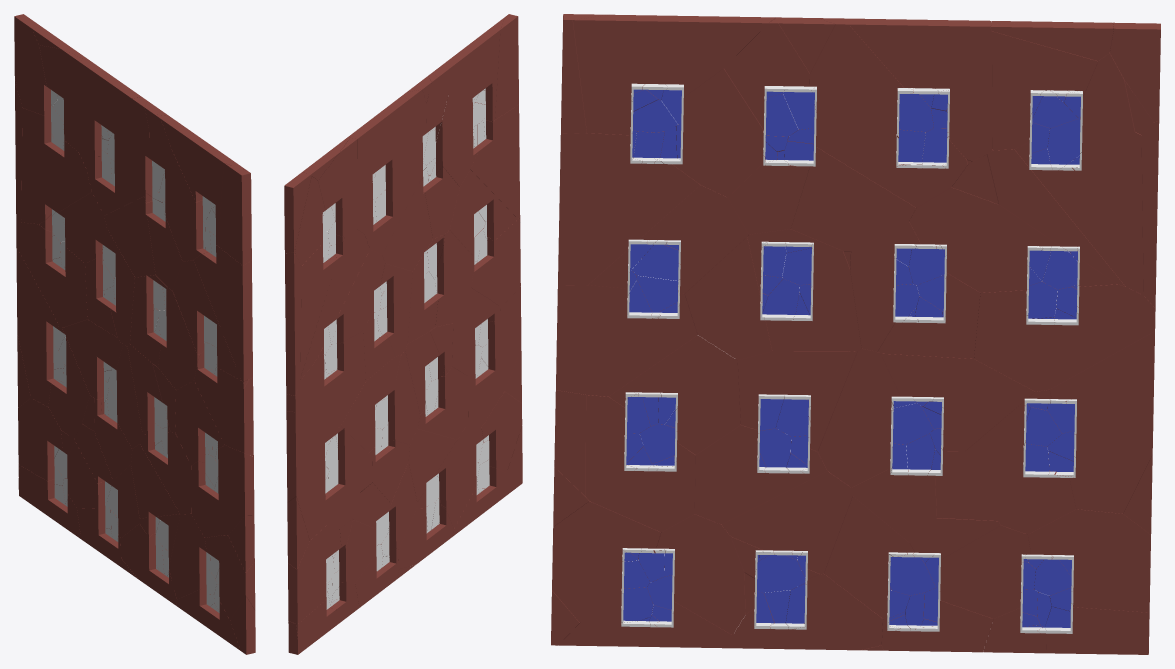
Rendered from wall05,07_A.fbx.
3 renders of one model, left to right at view 1: azimuth 30°, elevation 25°; view 2: azimuth 150°, elevation 25°; view 3: azimuth 270°, elevation 25°, orthographic. The views are drawn at different scales.
Visible parts, largest first — view 1: wall07_A.001_cell.004, wall07_A.001_cell.028, wall07_A.001_cell.020, wall07_A.001_cell.033, wall07_A.001_cell.046, wall07_A.001_cell.061, wall07_A.001_cell.009, wall07_A.001_cell.116, wall07_A.001_cell.128, wall07_A.001_cell.132, wall07_A.001_cell.147, wall07_A.001_cell.129 (+40 smaller); view 2: wall07_A.001_cell.028, wall07_A.001_cell.033, wall07_A.001_cell.020, wall07_A.001_cell.004, wall07_A.001_cell.009, wall07_A.001_cell.046, wall07_A.001_cell.129, wall07_A.001_cell.061, wall07_A.001_cell.128, wall07_A.001_cell.147, wall07_A.001_cell.132, wall07_A.001_cell.013 (+39 smaller); view 3: wall07_A.001_cell.009, wall07_A.001_cell.004, wall07_A.001_cell.028, wall07_A.001_cell.020, wall07_A.001_cell.033, wall07_A.001_cell.046, wall07_A.001_cell.061, wall07_A.001_cell.044, wall07_A.001_cell.140, wall07_A.001_cell.129, wall07_A.001_cell.087, wall07_A.001_cell.039 (+67 smaller).
Boxes of the visible parts, box(x1,y1,x2,y2) form: wall07_A.001_cell.004: box(193, 245, 252, 381); wall07_A.001_cell.028: box(86, 97, 152, 215); wall07_A.001_cell.020: box(16, 222, 87, 327); wall07_A.001_cell.033: box(16, 247, 58, 406); wall07_A.001_cell.046: box(78, 59, 141, 168); wall07_A.001_cell.061: box(194, 351, 253, 456); wall07_A.001_cell.009: box(161, 118, 246, 245); wall07_A.001_cell.116: box(218, 163, 251, 265); wall07_A.001_cell.128: box(21, 142, 91, 224); wall07_A.001_cell.132: box(164, 151, 208, 261); wall07_A.001_cell.147: box(172, 260, 241, 380); wall07_A.001_cell.129: box(18, 398, 62, 481); wall07_A.001_cell.028: box(365, 89, 426, 254); wall07_A.001_cell.033: box(286, 411, 336, 540); wall07_A.001_cell.020: box(286, 330, 365, 427); wall07_A.001_cell.004: box(470, 104, 520, 218); wall07_A.001_cell.009: box(432, 17, 504, 121); wall07_A.001_cell.046: box(349, 96, 409, 234); wall07_A.001_cell.129: box(288, 525, 341, 623); wall07_A.001_cell.061: box(471, 218, 520, 306); wall07_A.001_cell.128: box(300, 229, 369, 380); wall07_A.001_cell.147: box(450, 170, 517, 256); wall07_A.001_cell.132: box(436, 92, 478, 186); wall07_A.001_cell.013: box(434, 230, 474, 326); wall07_A.001_cell.009: box(573, 14, 775, 135); wall07_A.001_cell.004: box(558, 133, 699, 285); wall07_A.001_cell.028: box(809, 18, 967, 207); wall07_A.001_cell.020: box(974, 284, 1155, 391); wall07_A.001_cell.033: box(1050, 331, 1154, 513); wall07_A.001_cell.046: box(849, 18, 992, 161); wall07_A.001_cell.061: box(556, 285, 697, 396); wall07_A.001_cell.044: box(1015, 122, 1143, 295); wall07_A.001_cell.140: box(909, 187, 1060, 292); wall07_A.001_cell.129: box(1028, 509, 1150, 612); wall07_A.001_cell.087: box(586, 395, 695, 532); wall07_A.001_cell.039: box(552, 501, 660, 622).
Size of the model in its own units: 25.97 by 1001 by 871.
